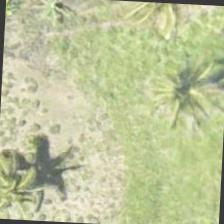Kelapa_Sawit: (129, 46, 223, 142), (0, 141, 50, 221)
